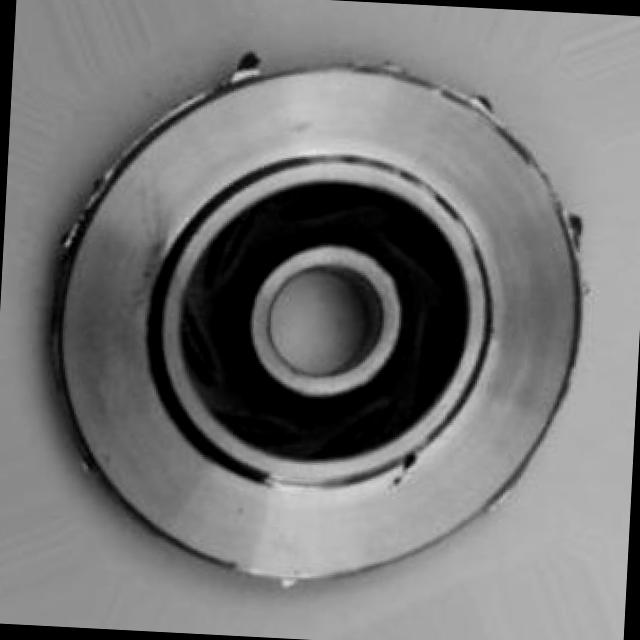Defect: (224, 47, 270, 81)
